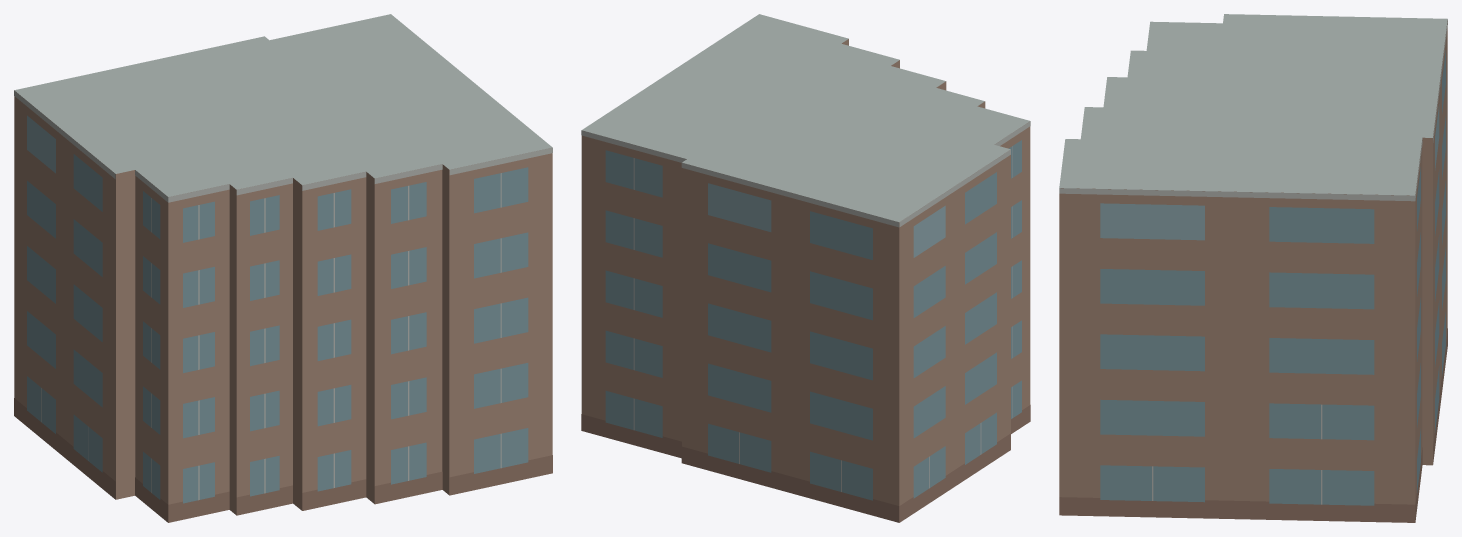
Rendered from survey-upis-32772885.glb.
3 views of the same model, side by side, from view 1: azimuth 30°, elevation 25°; view 2: azimuth 150°, elevation 25°; view 3: azimuth 270°, elevation 25° (orthographic). The views are drawn at different scales.
Visible parts, largest first — view 1: survey-upis-32772885.tmp; view 2: survey-upis-32772885.tmp; view 3: survey-upis-32772885.tmp.
Part boxes in pixels (box(x1,y1,x2,y2)): survey-upis-32772885.tmp: box(14, 14, 552, 522); survey-upis-32772885.tmp: box(581, 14, 1030, 522); survey-upis-32772885.tmp: box(1059, 14, 1447, 522).
Size of the model in its own units: 16.78 by 14.1 by 15.18.
